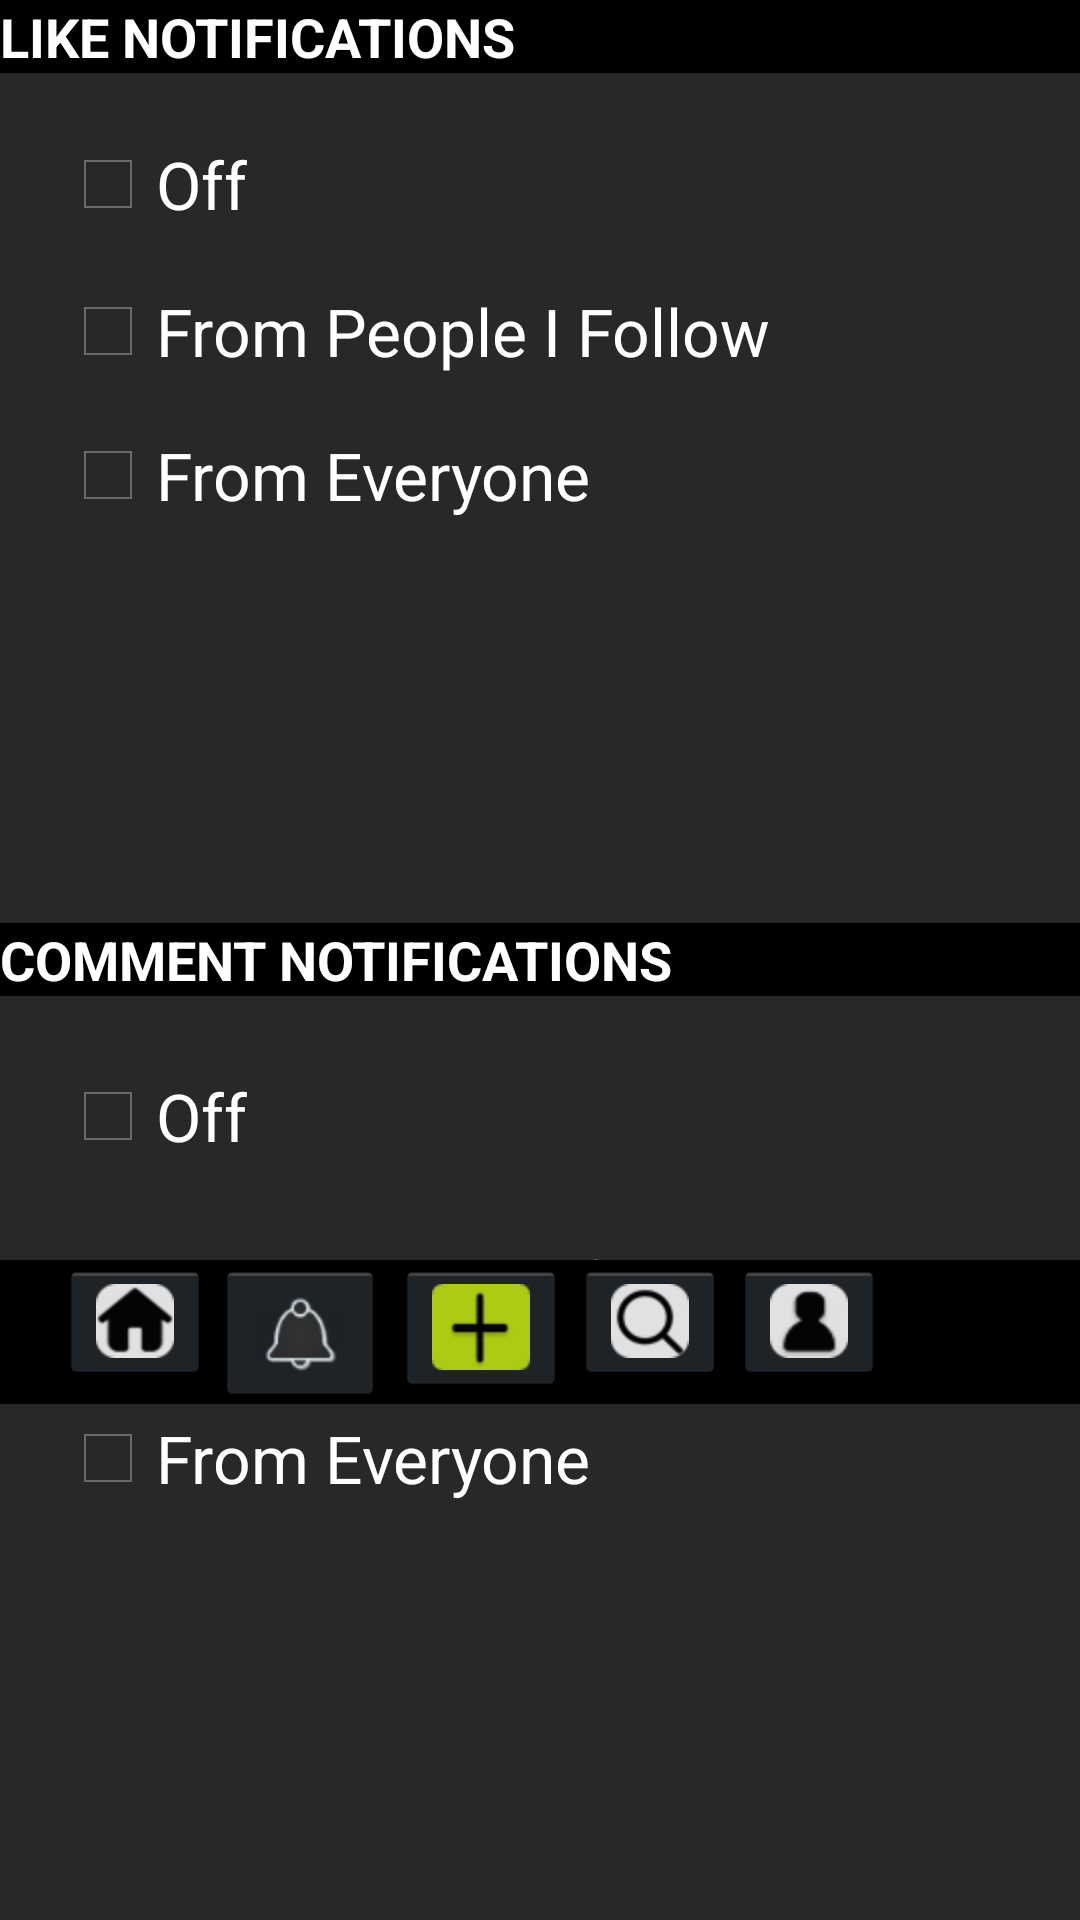

Locate icon controls on the screen. Image size 1080px x 1920px, boxes as {"x1": x1, "y1": y1, "x2": x2, "y2": y2}.
addrad: {"x1": 408, "y1": 1273, "x2": 554, "y2": 1383}
bell: {"x1": 228, "y1": 1273, "x2": 372, "y2": 1393}
homeicon: {"x1": 72, "y1": 1273, "x2": 198, "y2": 1371}
search: {"x1": 587, "y1": 1273, "x2": 713, "y2": 1371}
user: {"x1": 746, "y1": 1273, "x2": 872, "y2": 1371}
